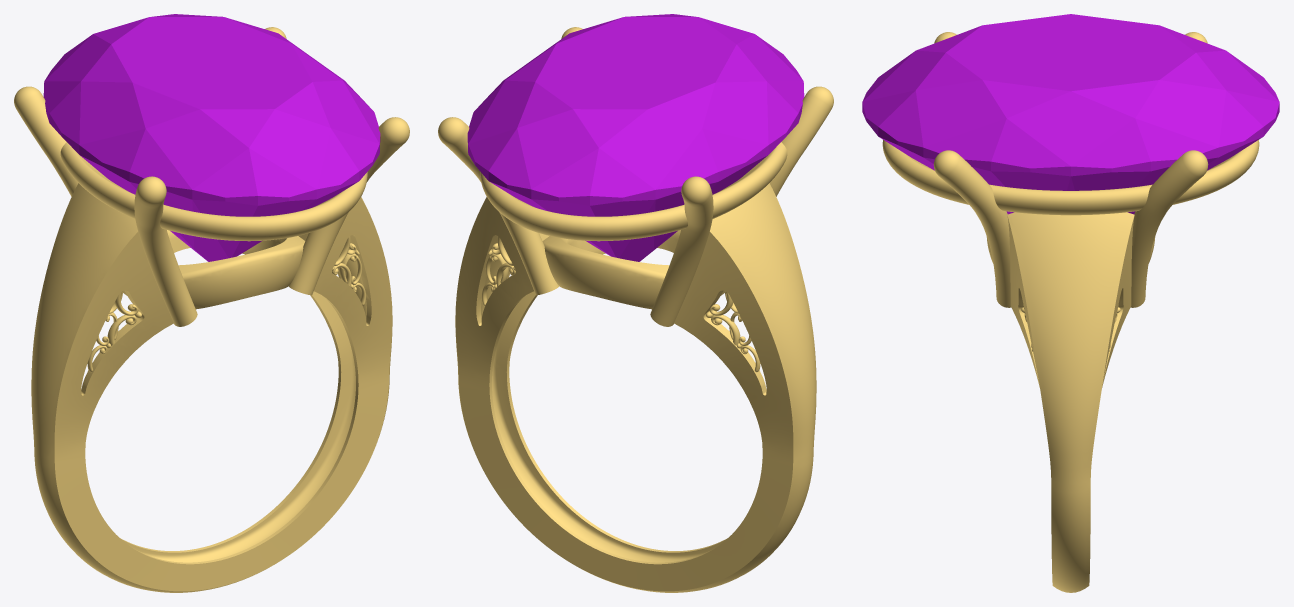
Rendered from JimGv2_blender.glb.
3 views of the same model, side by side, from view 1: azimuth 30°, elevation 25°; view 2: azimuth 150°, elevation 25°; view 3: azimuth 270°, elevation 25° (orthographic).
Visible parts, largest first — view 1: v2 Jim YG for 3d model, Jim amethyst for 3d model; view 2: v2 Jim YG for 3d model, Jim amethyst for 3d model; view 3: Jim amethyst for 3d model, v2 Jim YG for 3d model.
Part boxes in pixels (x1,y1,x2,y2): v2 Jim YG for 3d model: [14, 27, 409, 592]; Jim amethyst for 3d model: [43, 14, 380, 261]; v2 Jim YG for 3d model: [438, 27, 833, 592]; Jim amethyst for 3d model: [467, 14, 804, 261]; Jim amethyst for 3d model: [862, 14, 1279, 214]; v2 Jim YG for 3d model: [882, 32, 1259, 592].
Size of the model in its own units: 20.43 by 29.09 by 21.12.
